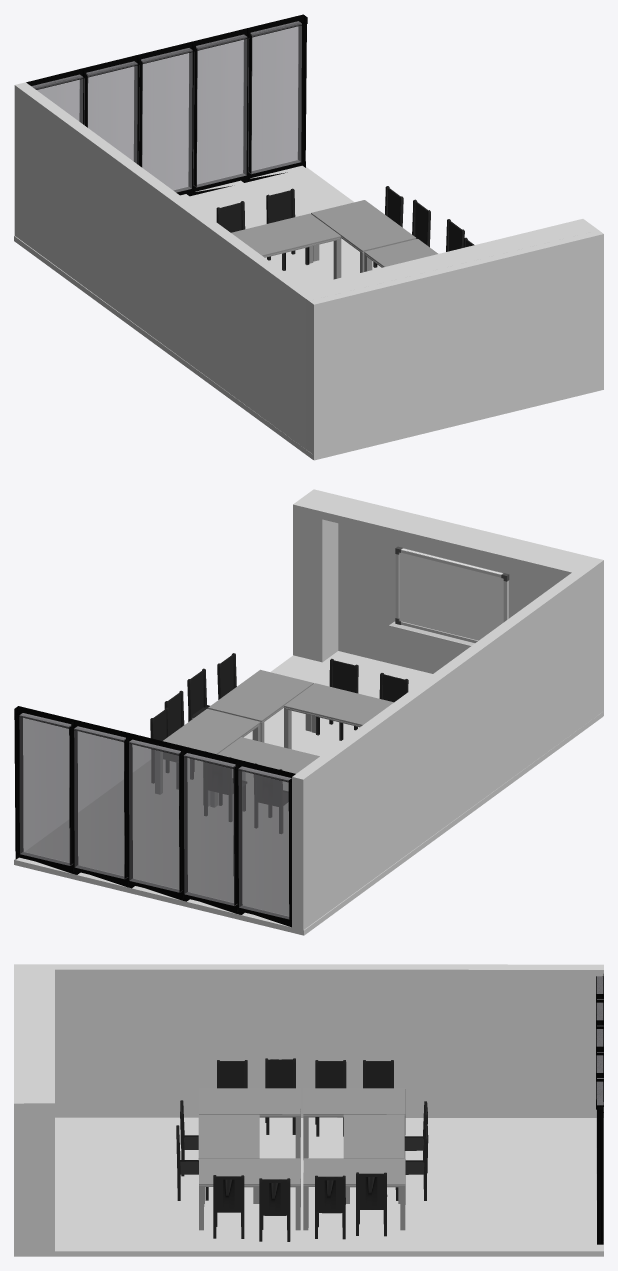
The model's file is chamossaire.glb.
3 renders of one model, top to bottom at view 1: azimuth 30°, elevation 25°; view 2: azimuth 150°, elevation 25°; view 3: azimuth 270°, elevation 25°, orthographic.
Visible parts, largest first — view 1: Plane.033, Plane.014, Plane.011, Plane.016, Plane.015; view 2: Plane.014, Plane.011, Plane.015, Plane.033, Plane.016, Backboard_Material.002_0.004; view 3: Plane.014, Plane.015, Plane.016, Plane.033, Plane.011.
Part boxes in pixels (x1,y1,x2,y2): Plane.033: [304, 219, 603, 460]; Plane.014: [14, 82, 316, 449]; Plane.011: [26, 14, 307, 196]; Plane.016: [216, 186, 474, 279]; Plane.015: [14, 165, 381, 459]; Plane.014: [292, 563, 595, 930]; Plane.011: [14, 706, 295, 927]; Plane.015: [14, 651, 603, 935]; Plane.033: [293, 489, 603, 716]; Plane.016: [150, 653, 408, 833]; Backboard_Material.002_0.004: [389, 546, 509, 646]; Plane.014: [29, 964, 603, 1117]; Plane.015: [55, 1117, 603, 1256]; Plane.016: [176, 1058, 428, 1241]; Plane.033: [14, 964, 54, 1256]; Plane.011: [596, 974, 603, 1244].
Bounding box in the file's own units: 3.75 × 1.93 × 6.72.
Materials: 46 (5 with a texture image).
